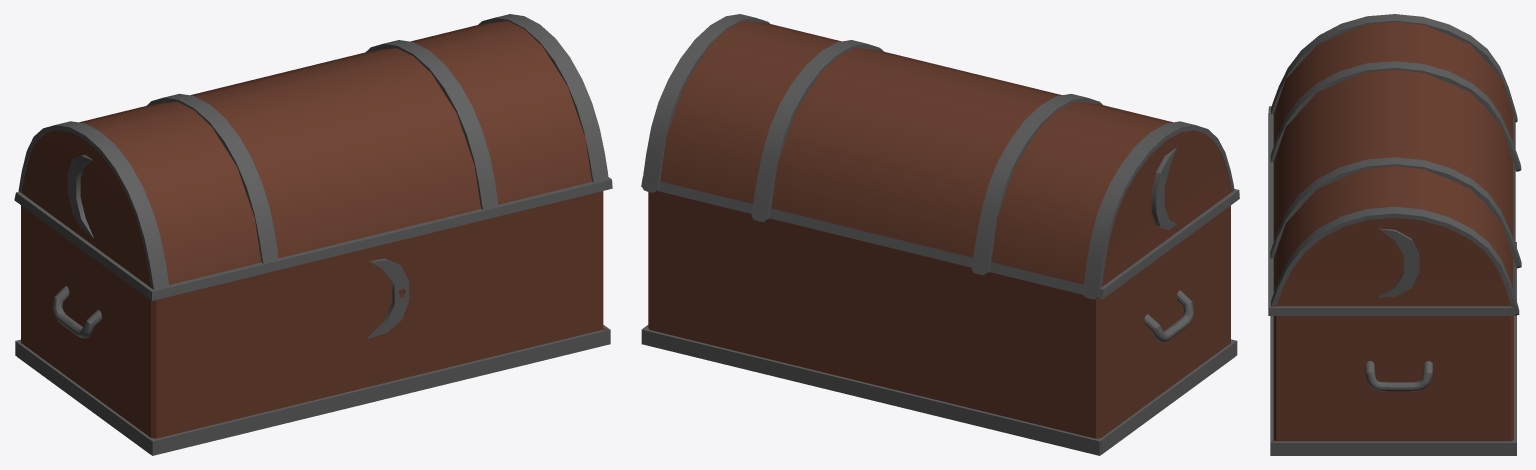
Rendered from BauLua.fbx.
3 views of the same model, side by side, from view 1: azimuth 30°, elevation 25°; view 2: azimuth 150°, elevation 25°; view 3: azimuth 270°, elevation 25° (orthographic). The views are drawn at different scales.
Visible parts, largest first — view 1: BauLua; view 2: BauLua; view 3: BauLua.
Boxes of the visible parts, <box> form: BauLua: <box>14,14,612,455</box>; BauLua: <box>641,14,1239,455</box>; BauLua: <box>1268,14,1521,455</box>.
Size of the model in its own units: 213 by 114 by 108.
